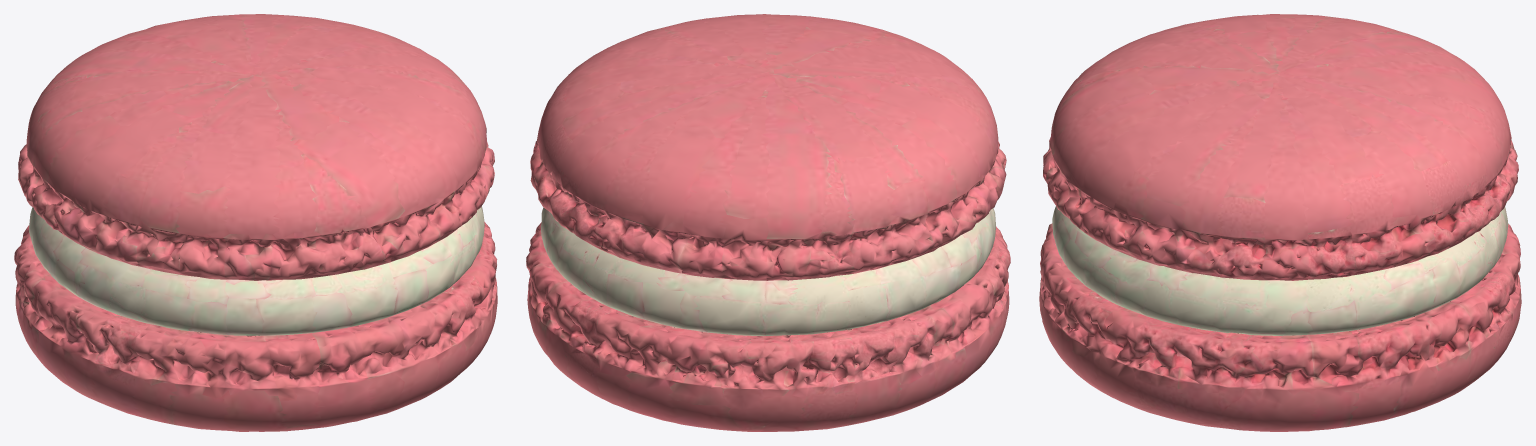
3 views of the same model, side by side, from view 1: azimuth 30°, elevation 25°; view 2: azimuth 150°, elevation 25°; view 3: azimuth 270°, elevation 25° (orthographic).
Bounding box in the file's own units: 1.9 × 1.23 × 1.9.
Materials: 1 (1 with a texture image).
